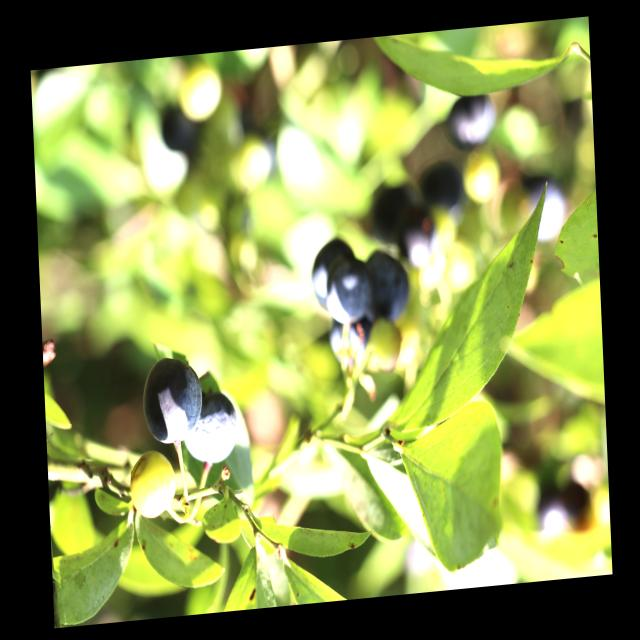blueberry: (143, 354, 202, 446), (180, 385, 239, 469), (361, 248, 410, 328), (310, 233, 358, 310), (322, 259, 373, 327), (520, 178, 566, 250), (416, 159, 467, 223), (442, 91, 496, 146), (322, 315, 368, 371), (398, 212, 439, 267)
blueberry-unripe: (128, 447, 178, 522)
